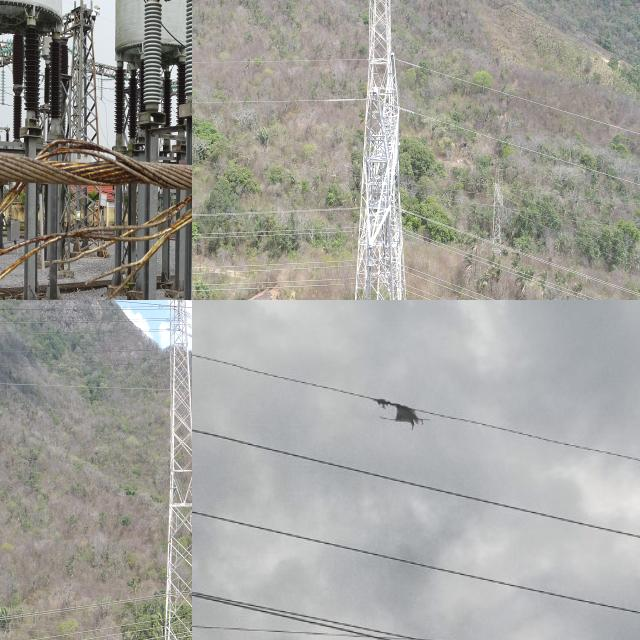杆塔: (151, 300, 192, 640), (361, 0, 404, 300)
植被遮挡: (351, 387, 439, 432)
正常电缆: (406, 103, 640, 190), (192, 275, 352, 295), (407, 269, 488, 300), (192, 95, 356, 110), (192, 51, 310, 67)
电缆破损: (0, 133, 192, 300)
